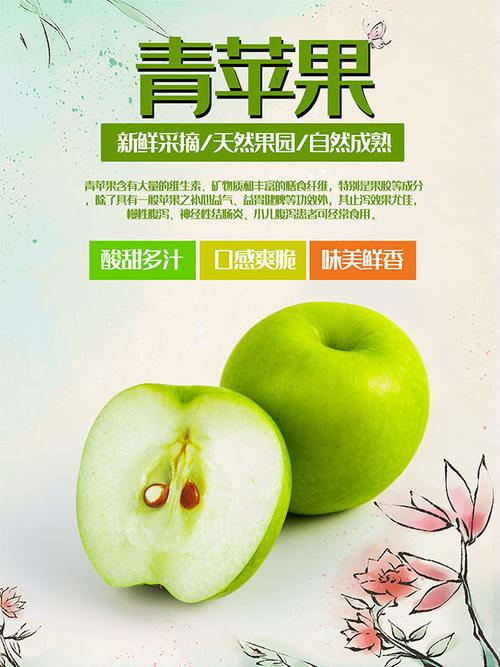unripe: (199, 281, 432, 527)
